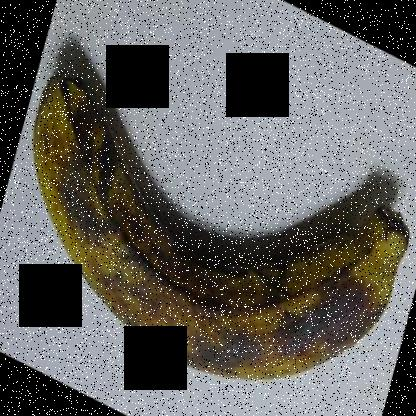overripe: (23, 47, 408, 402)
